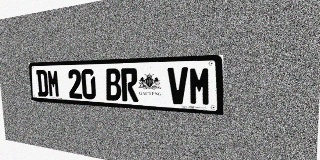0: (81, 69, 96, 100)
2: (68, 69, 82, 99)
B: (105, 68, 122, 101)
D: (36, 70, 49, 97)
M: (189, 67, 211, 106), (47, 70, 60, 98)
R: (121, 68, 138, 102)
V: (168, 67, 188, 105)
